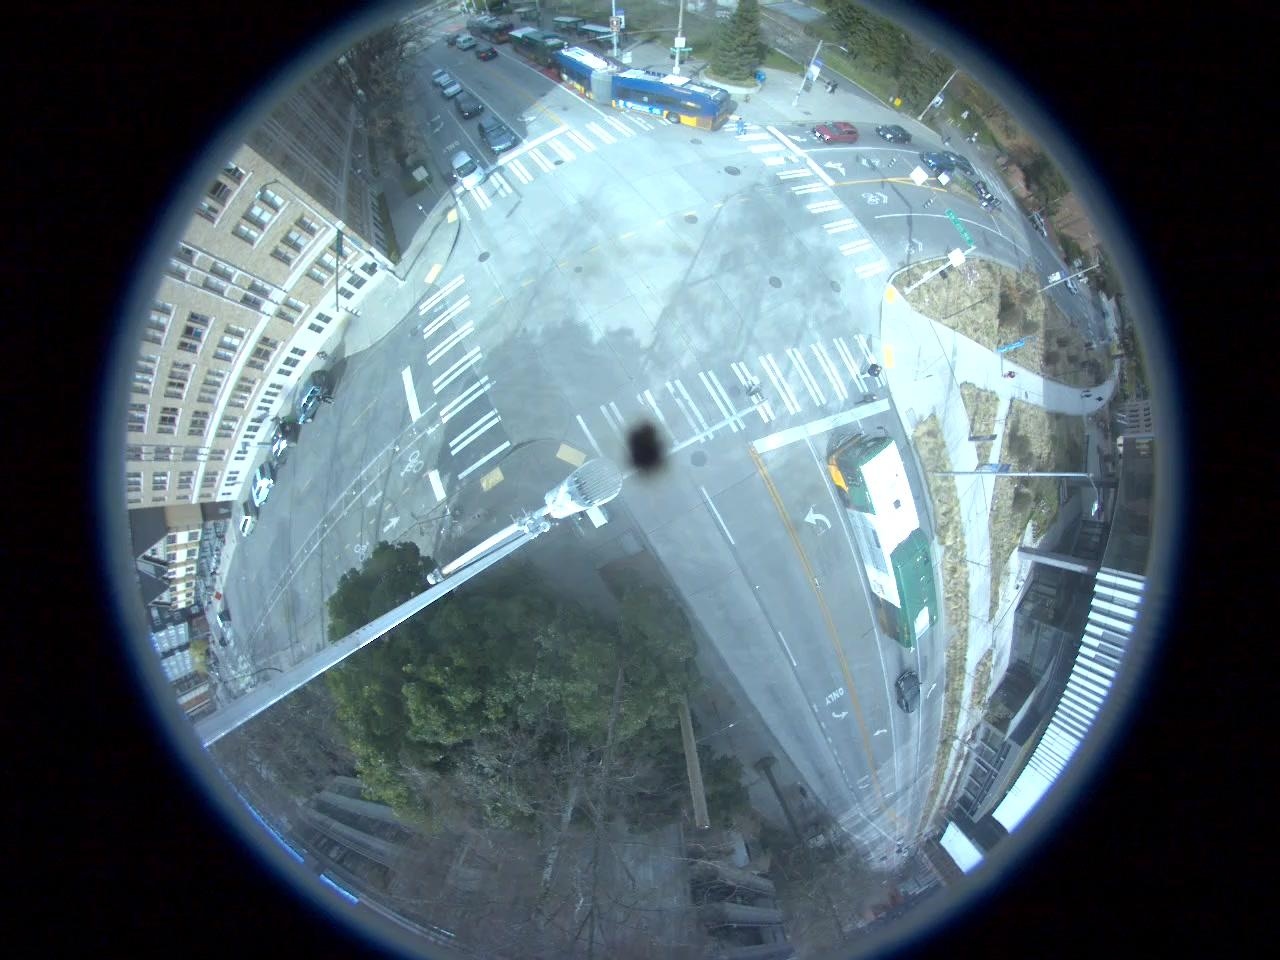bus: (830, 433, 942, 646), (563, 44, 726, 132), (512, 26, 566, 68), (468, 13, 514, 41)
car: (301, 371, 332, 425), (450, 152, 486, 194), (480, 114, 514, 154), (814, 121, 860, 148), (894, 670, 921, 712), (875, 120, 917, 146), (946, 145, 978, 175), (273, 424, 296, 462), (253, 462, 273, 502), (236, 504, 260, 537), (458, 92, 482, 118), (921, 154, 953, 170), (473, 43, 499, 62), (442, 77, 460, 97)
person: (860, 362, 884, 380), (736, 112, 750, 137), (856, 394, 881, 406), (1004, 367, 1020, 382)
